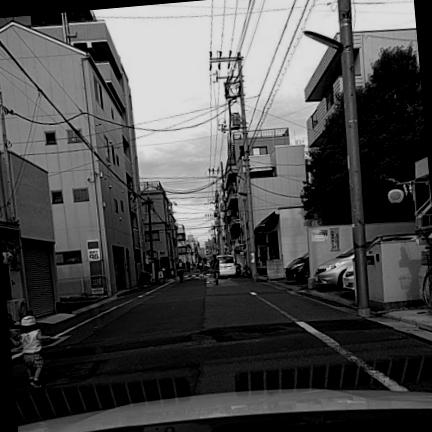Road: (12, 274, 431, 423)
